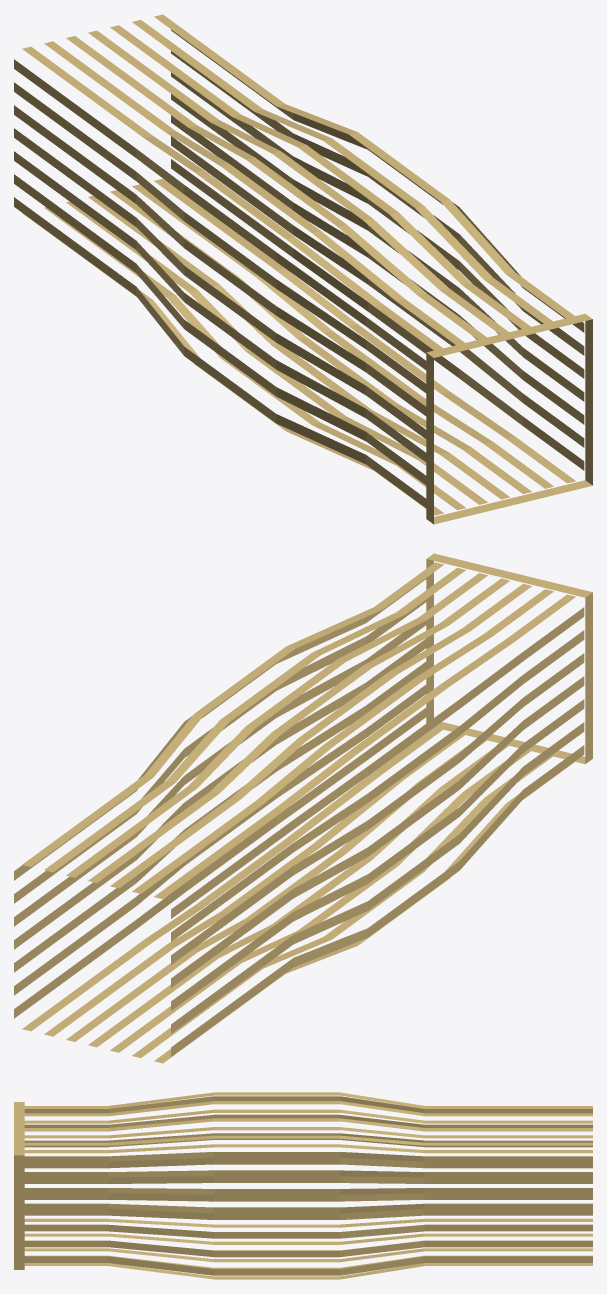
Rendered from construction_1.glb.
The picture shows the model from 3 angles, top to bottom: view 1: azimuth 30°, elevation 25°; view 2: azimuth 150°, elevation 25°; view 3: azimuth 270°, elevation 25°; orthographic projection. The views are drawn at different scales.
Visible parts, largest first — view 1: construction_1; view 2: construction_1; view 3: construction_1.
Part boxes in pixels (<box>): construction_1: <box>14,14,592,524</box>; construction_1: <box>14,553,592,1063</box>; construction_1: <box>14,1092,592,1279</box>.
Bounding box in the file's own units: 13.84 × 13.84 × 55.
